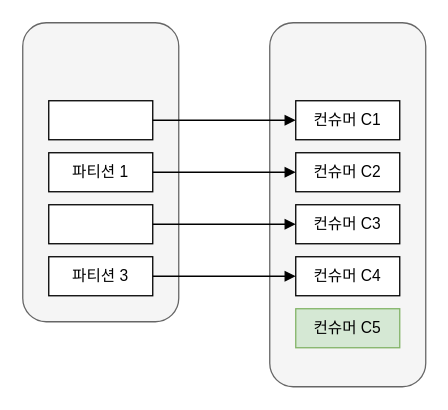
Some shapes in this 448 by 410 pixel diagram are drawn without their labels. Each missing label, with the box of its shape:
컨슈머 그룹 G1: (268, 21, 426, 387)
토픽 T1: (21, 21, 179, 322)
파티션 0: (47, 99, 153, 140)
파티션 2: (47, 203, 153, 244)
